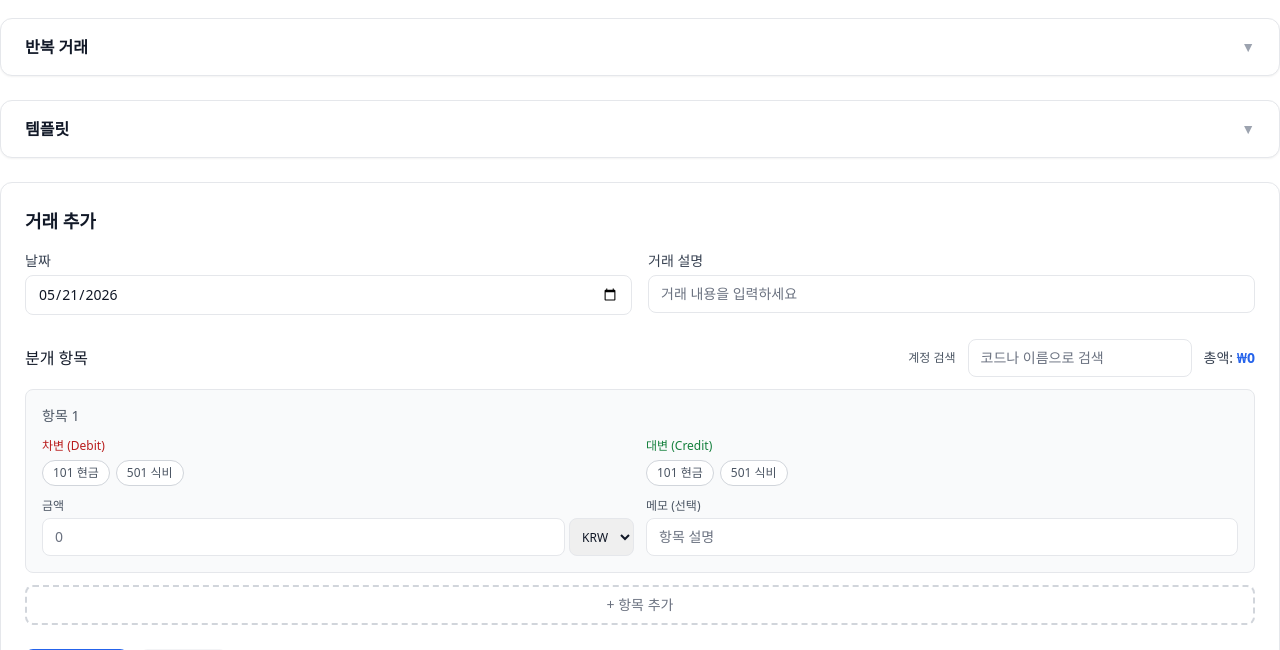
Scenario: TemplatesTab (템플릿 탭) › 빈 템플릿 목록 메시지를 표시한다
The image size is (1280, 650).
Click the button "템플릿 ▼". click: (47, 129)
box: x1=1 y1=101 x2=1279 y2=157
(page scrolled)
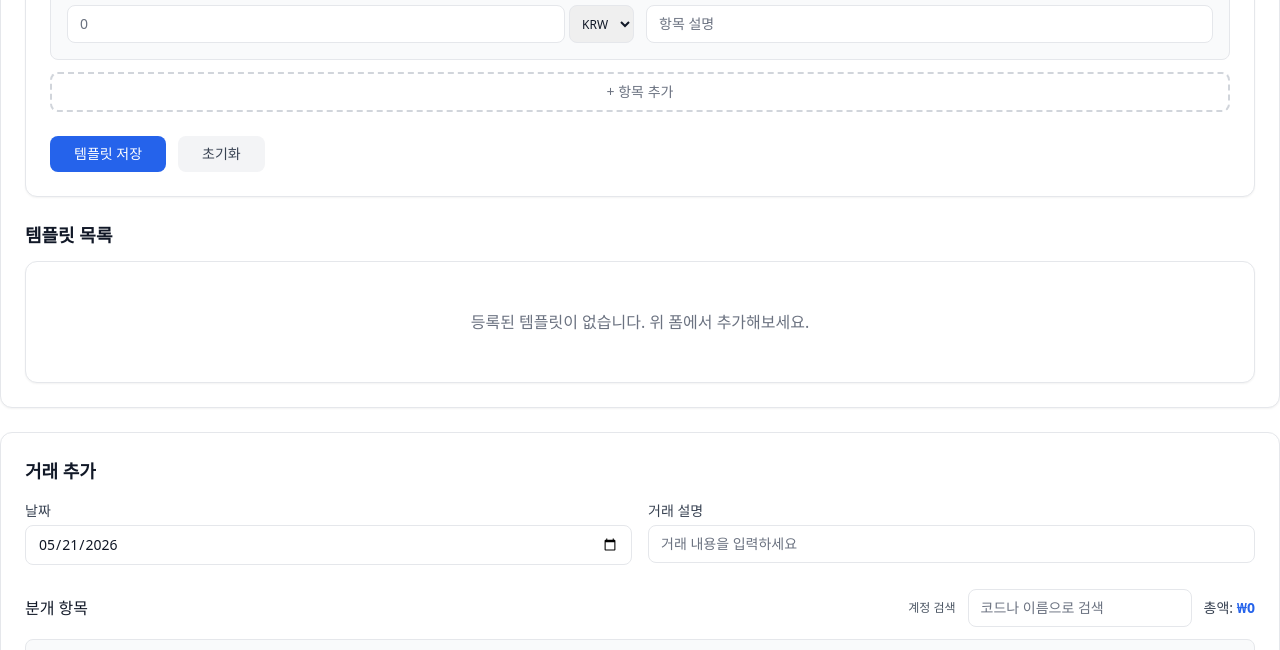
Result: the text "등록된 템플릿이 없습니다. 위 폼에서 추가해보세요." is shown at x1=471 y1=311 x2=809 y2=333
